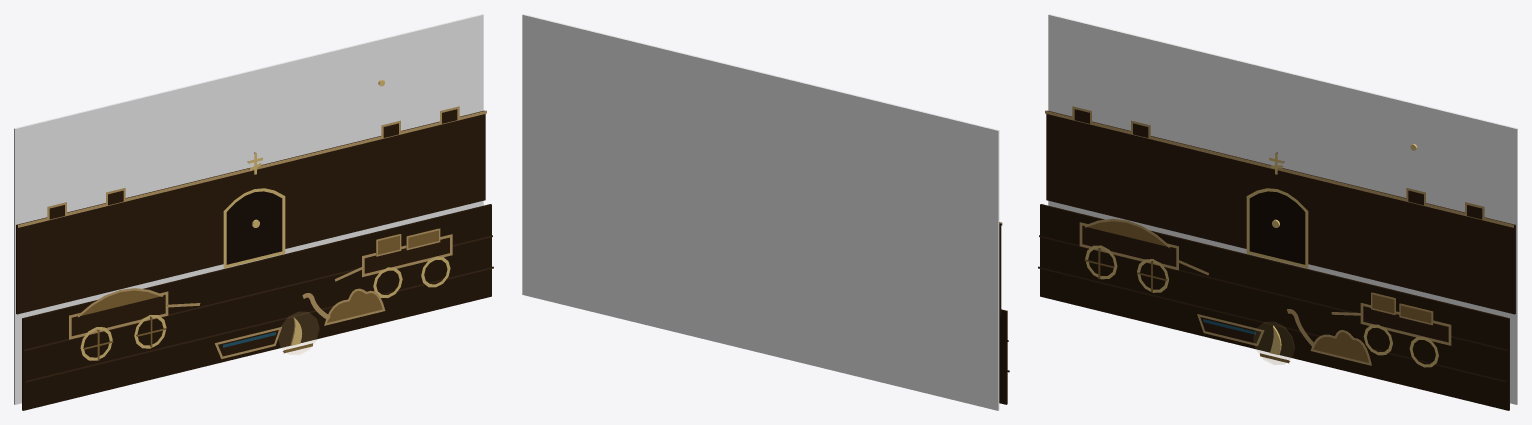
Rendered from loc-dvor-karavanshchikov.glb.
The picture shows the model from 3 angles, left to right: view 1: azimuth 30°, elevation 25°; view 2: azimuth 150°, elevation 25°; view 3: azimuth 330°, elevation 25°; orthographic projection.
Parts seen in each view (by area): view 1: loc-dvor-karavanshchikov; view 2: loc-dvor-karavanshchikov; view 3: loc-dvor-karavanshchikov.
Boxes of the visible parts, x1,y1,x2,y2 form: loc-dvor-karavanshchikov: [14, 14, 493, 410]; loc-dvor-karavanshchikov: [522, 14, 1009, 410]; loc-dvor-karavanshchikov: [1038, 14, 1517, 410].
Size of the model in its own units: 5.33 by 3 by 0.6.
